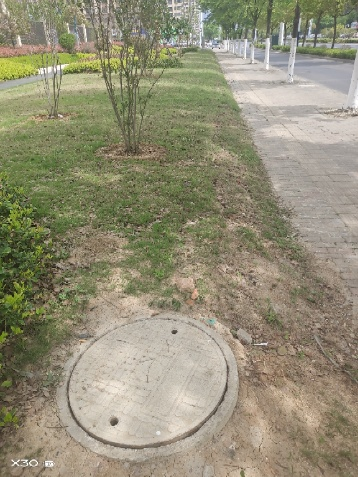good: (57, 310, 238, 464)
